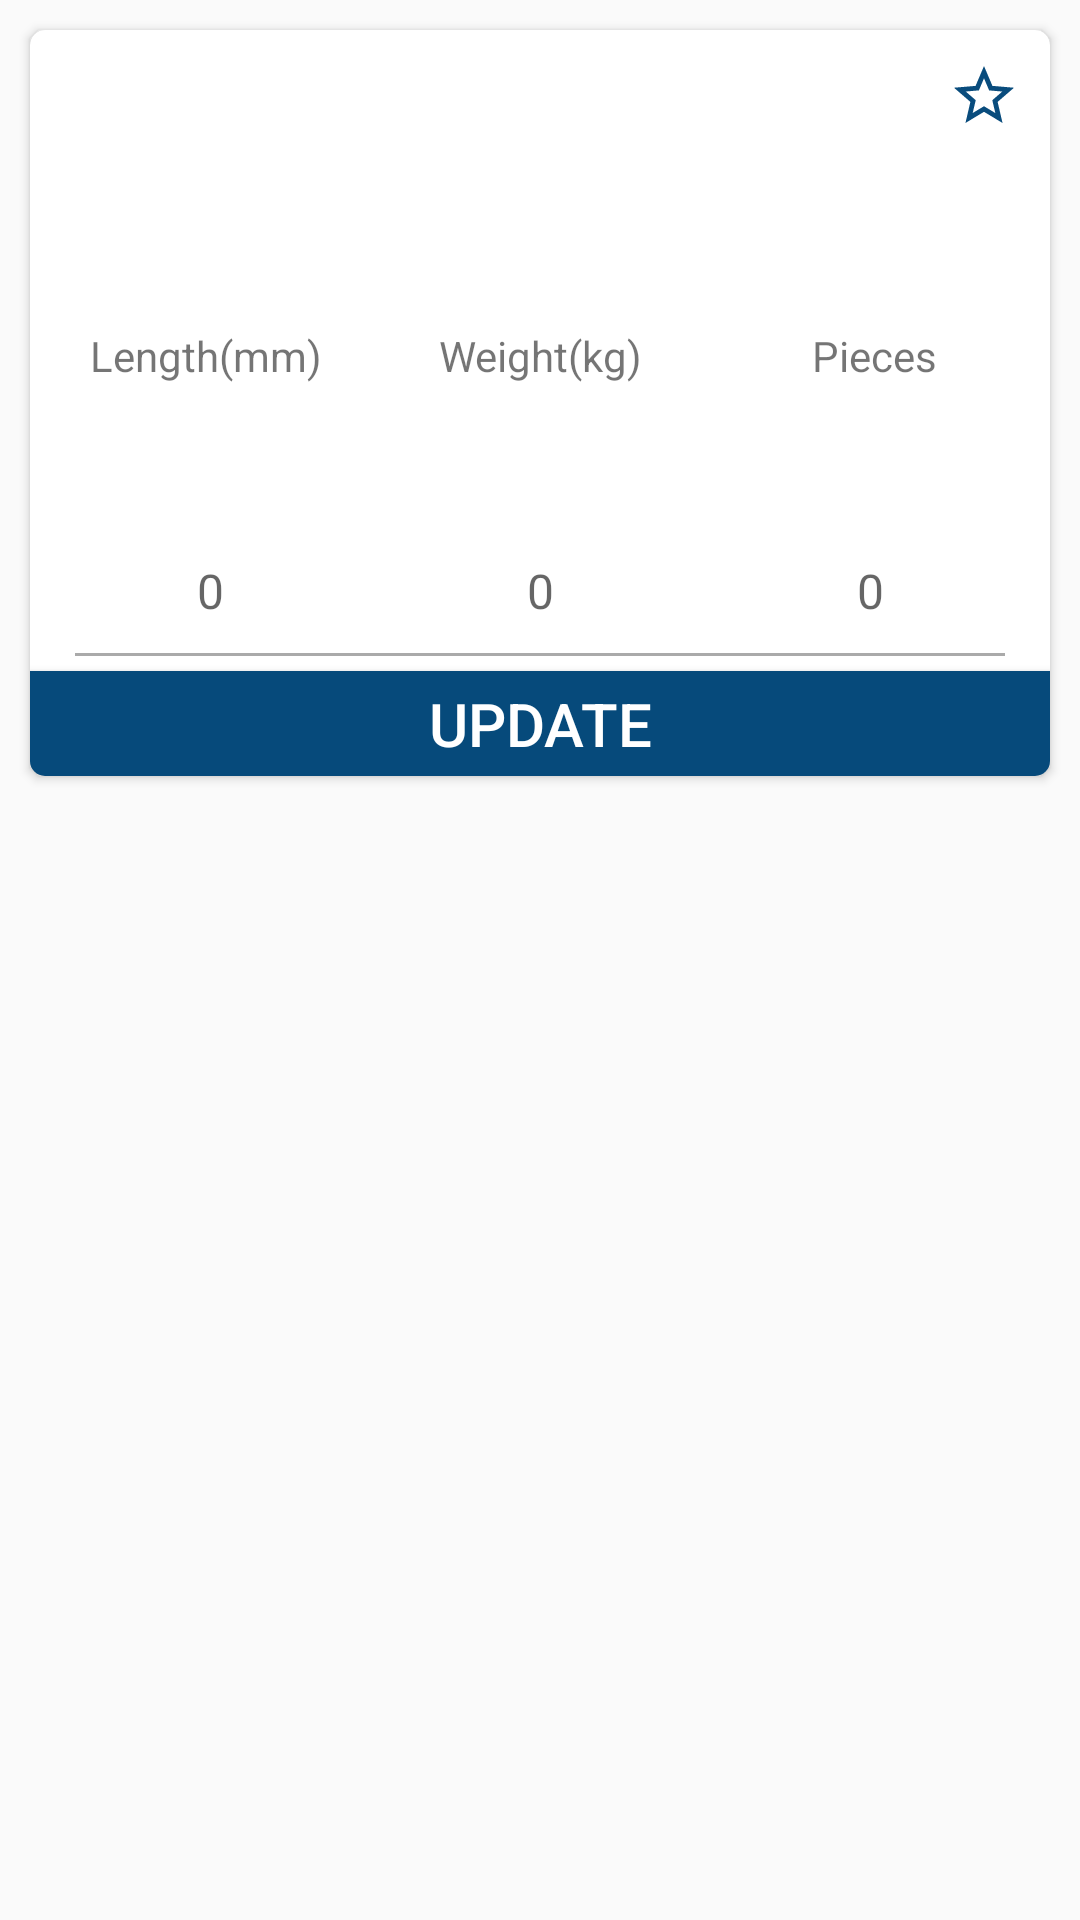

Where to tap for icons on this 1080px x 1920px app screen, as point (x, y):
star border: point (984, 94)
